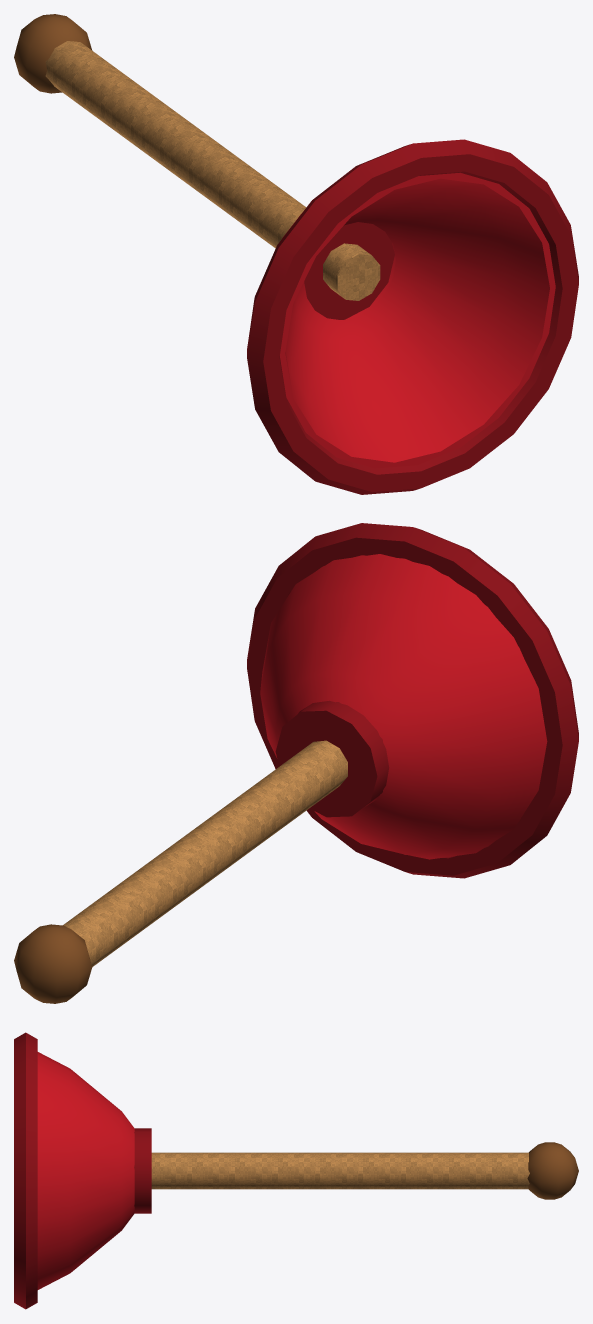
Rendered from x_grap_plunger.glb.
3 renders of one model, top to bottom at view 1: azimuth 30°, elevation 25°; view 2: azimuth 150°, elevation 25°; view 3: azimuth 270°, elevation 25°, orthographic. The views are drawn at different scales.
Visible parts, largest first — view 1: hook_cup, hook_handle; view 2: hook_cup, hook_handle; view 3: hook_cup, hook_handle.
Boxes of the visible parts, x1=… form: hook_cup: x1=247, y1=139, x2=578, y2=494; hook_handle: x1=14, y1=14, x2=380, y2=300; hook_cup: x1=247, y1=523, x2=578, y2=878; hook_handle: x1=14, y1=740, x2=347, y2=1003; hook_cup: x1=14, y1=1032, x2=151, y2=1309; hook_handle: x1=151, y1=1142, x2=578, y2=1199.
Size of the model in its own units: 0.326 by 0.326 by 0.6599.
Materials: 4 (1 with a texture image).
